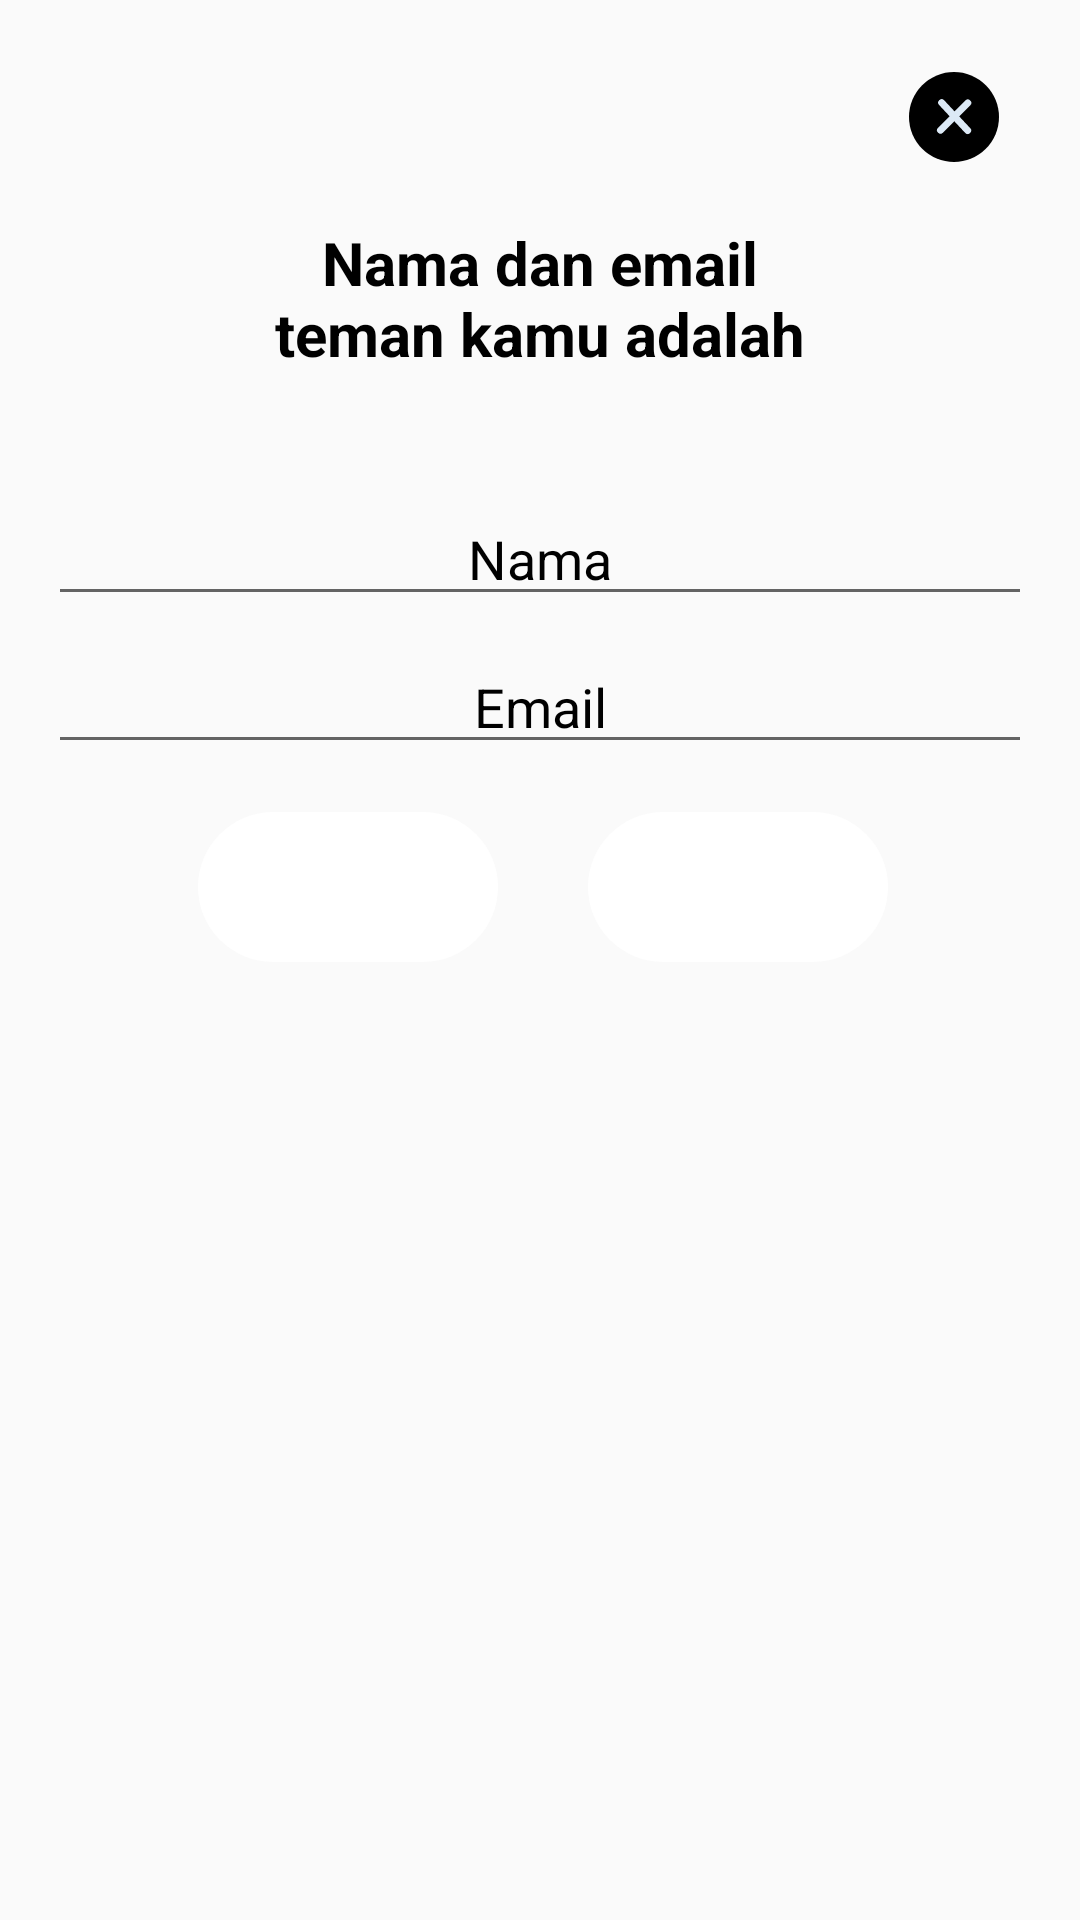

Named icons in this screenshot (1080×1920) and their bounding boxes, (x1, y1, x2, y2):
close: (909, 72, 999, 162)
